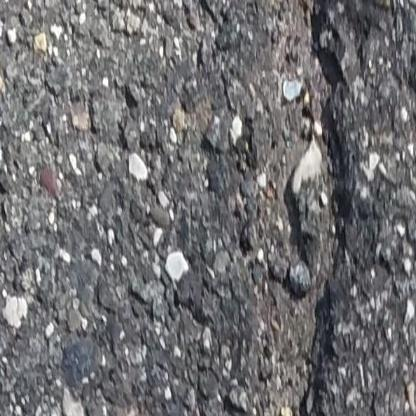Cracks: (254, 0, 351, 416)
